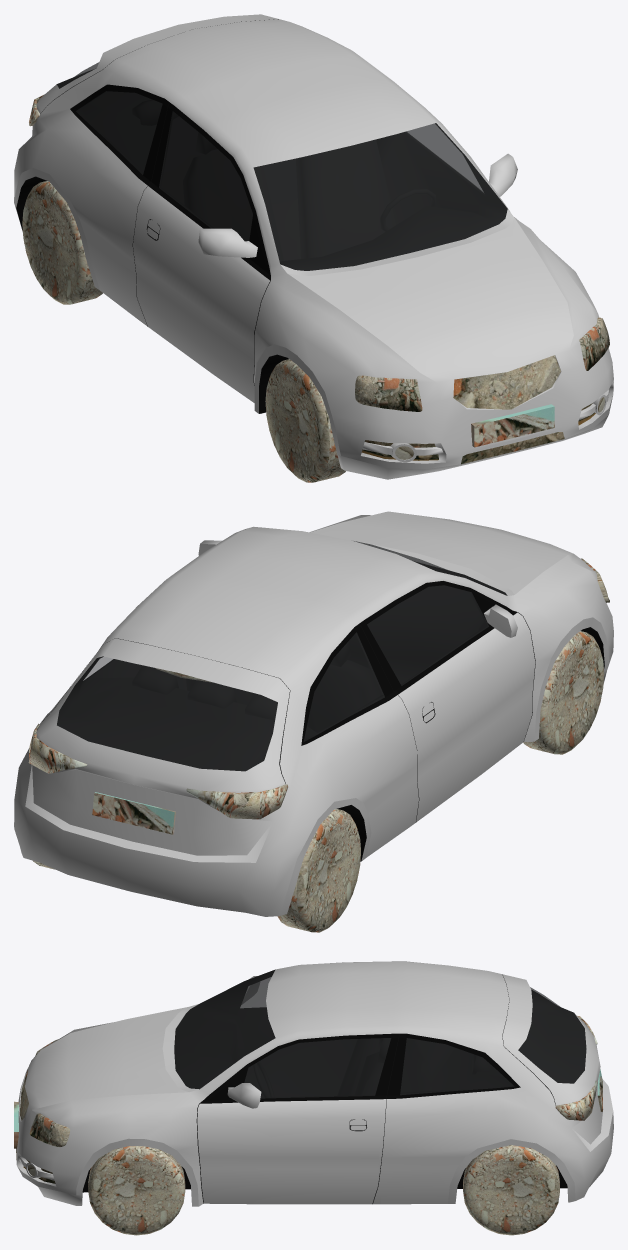
File: carSegmentB.obj
3 renders of one model, top to bottom at view 1: azimuth 30°, elevation 25°; view 2: azimuth 150°, elevation 25°; view 3: azimuth 270°, elevation 25°, orthographic. The views are drawn at different scales.
Visible parts, largest first — view 1: Car, interior_Interior, wheels_Cylinder, FrontLights_mesh.009, LicensePlates_Lights.005; view 2: Car, interior_Interior, wheels_Cylinder, RearLights_mesh.005, LicensePlates_Lights.005, Lines; view 3: Car, interior_Interior, wheels_Cylinder, FrontLights_mesh.009, RearLights_mesh.005, Lines, LicensePlates_Lights.005.
Boxes of the visible parts, box(x1,y1,x2,y2) form: Car: box(14, 14, 613, 479); interior_Interior: box(57, 71, 507, 270); wheels_Cylinder: box(22, 181, 345, 482); FrontLights_mesh.009: box(355, 317, 609, 411); LicensePlates_Lights.005: box(471, 404, 554, 447); Car: box(14, 511, 613, 916); interior_Interior: box(57, 561, 507, 771); wheels_Cylinder: box(33, 631, 604, 932); RearLights_mesh.005: box(28, 668, 287, 819); LicensePlates_Lights.005: box(92, 792, 175, 834); Lines: box(42, 612, 535, 822); Car: box(16, 961, 613, 1206); interior_Interior: box(174, 970, 586, 1098); wheels_Cylinder: box(88, 1145, 559, 1235); FrontLights_mesh.009: box(29, 1039, 70, 1146); RearLights_mesh.005: box(555, 1016, 597, 1120); Lines: box(196, 974, 555, 1204); LicensePlates_Lights.005: box(14, 1069, 602, 1148).
Bounding box in the file's own units: 184 × 141 × 394.
